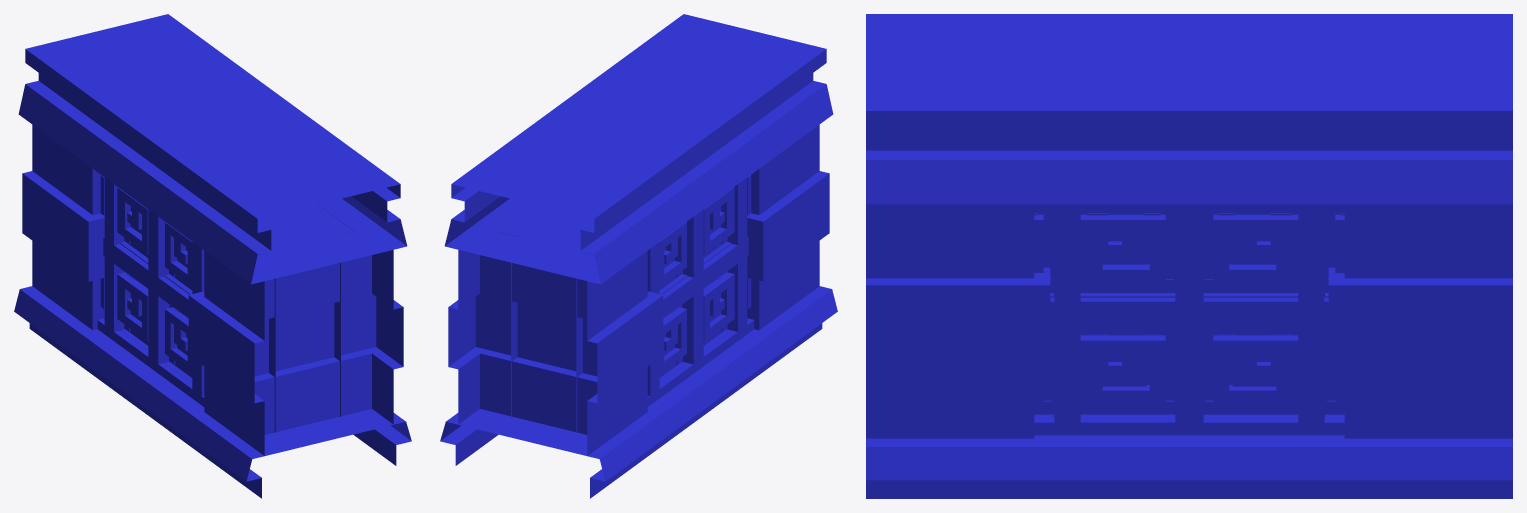
The model's file is ParedSimple.fbx.
The picture shows the model from 3 angles, left to right: view 1: azimuth 30°, elevation 25°; view 2: azimuth 150°, elevation 25°; view 3: azimuth 270°, elevation 25°; orthographic projection. The views are drawn at different scales.
Parts seen in each view (by area): view 1: SimpleWall_T1_VAS1_6x4.001, SimpleWall_T1_VBS1_6x4.001, SimpleWall_T1_VAS2_6x4.001, SimpleWall_T1_VBS2_6x4.001, SimpleWall_T1_VDS1_6x4.001, SimpleWall_T1_VDS2_6x4.001, SimpleWall_T1_VCS1_6x4.001; view 2: SimpleWall_T1_VAS1_6x4.001, SimpleWall_T1_VBS1_6x4.001, SimpleWall_T1_VDS1_6x4.001, SimpleWall_T1_VDS2_6x4.001, SimpleWall_T1_VBS2_6x4.001, SimpleWall_T1_VAS2_6x4.001, SimpleWall_T1_VCS1_6x4.001; view 3: SimpleWall_T1_VAS2_6x4.001, SimpleWall_T1_VBS2_6x4.001, SimpleWall_T1_VDS2_6x4.001, SimpleWall_T1_VAS1_6x4.001, SimpleWall_T1_VBS1_6x4.001, SimpleWall_T1_VDS1_6x4.001, SimpleWall_T1_VCS2_6x4.001.
Part boxes in pixels (x1,y1,x2,y2): SimpleWall_T1_VAS1_6x4.001: (14,31,401,498); SimpleWall_T1_VBS1_6x4.001: (14,32,402,479); SimpleWall_T1_VAS2_6x4.001: (97,14,411,444); SimpleWall_T1_VBS2_6x4.001: (97,14,411,453); SimpleWall_T1_VDS1_6x4.001: (15,48,400,480); SimpleWall_T1_VDS2_6x4.001: (122,15,403,465); SimpleWall_T1_VCS1_6x4.001: (120,206,192,381); SimpleWall_T1_VAS1_6x4.001: (523,31,837,490); SimpleWall_T1_VBS1_6x4.001: (449,33,837,498); SimpleWall_T1_VDS1_6x4.001: (466,33,836,491); SimpleWall_T1_VDS2_6x4.001: (440,18,750,455); SimpleWall_T1_VBS2_6x4.001: (440,14,753,465); SimpleWall_T1_VAS2_6x4.001: (440,14,754,465); SimpleWall_T1_VCS1_6x4.001: (664,206,731,364); SimpleWall_T1_VAS2_6x4.001: (866,62,1512,498); SimpleWall_T1_VBS2_6x4.001: (866,62,1512,498); SimpleWall_T1_VDS2_6x4.001: (866,62,1512,498); SimpleWall_T1_VAS1_6x4.001: (866,14,1512,283); SimpleWall_T1_VBS1_6x4.001: (866,14,1512,283); SimpleWall_T1_VDS1_6x4.001: (866,14,1512,297); SimpleWall_T1_VCS2_6x4.001: (1080,207,1298,413).
Bounding box in the file's own units: 246 × 400 × 600.
